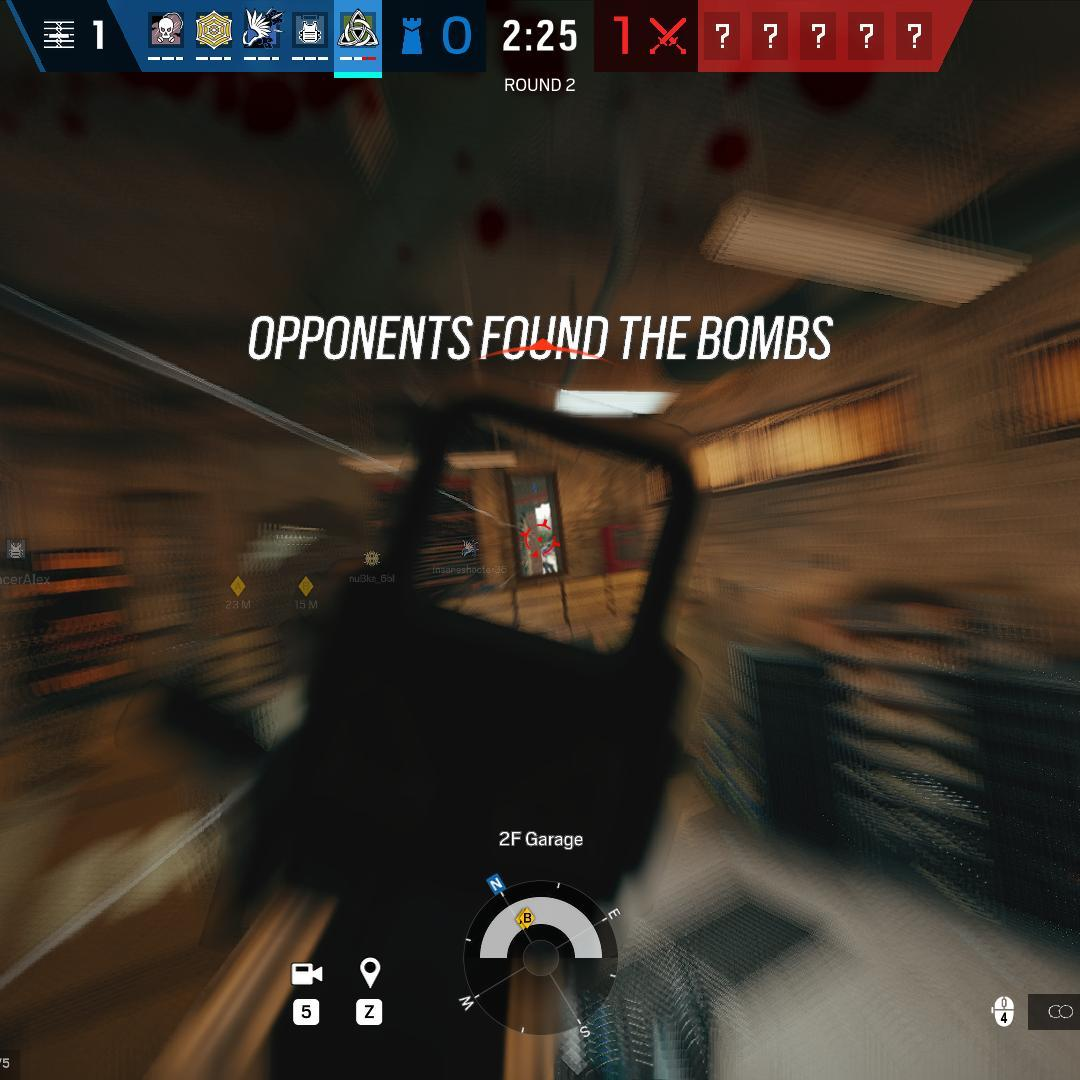Character: (541, 543, 556, 575)
Friend_label: (431, 537, 511, 575), (347, 548, 398, 584)
